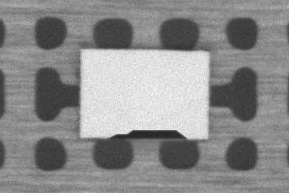DIE_BROKEN: (114, 128, 189, 139)
